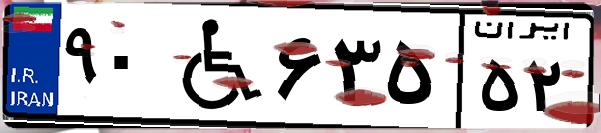0: (110, 28, 158, 98)
2: (525, 38, 570, 115)
3: (330, 28, 385, 110)
5: (385, 28, 445, 110), (475, 38, 525, 113)
6: (270, 28, 330, 110)
9: (57, 26, 110, 100)
ژ (معلولین و جانبازان): (158, 12, 270, 120)
